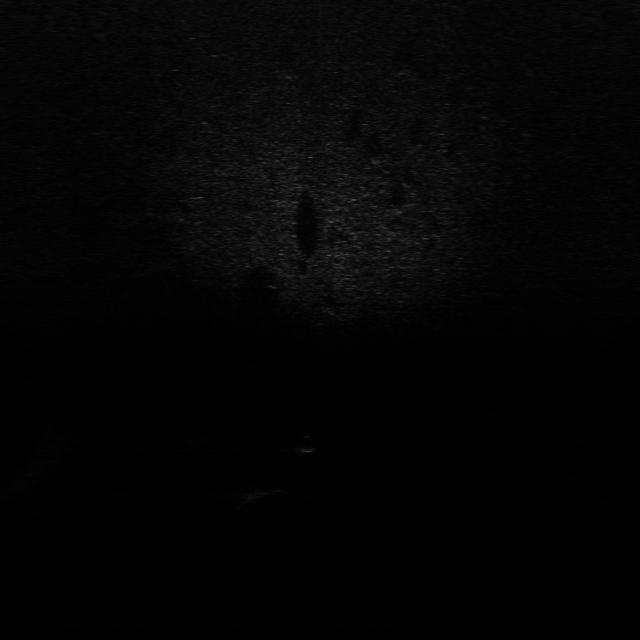ball: (293, 434, 322, 453)
square cage: (224, 486, 294, 501)
